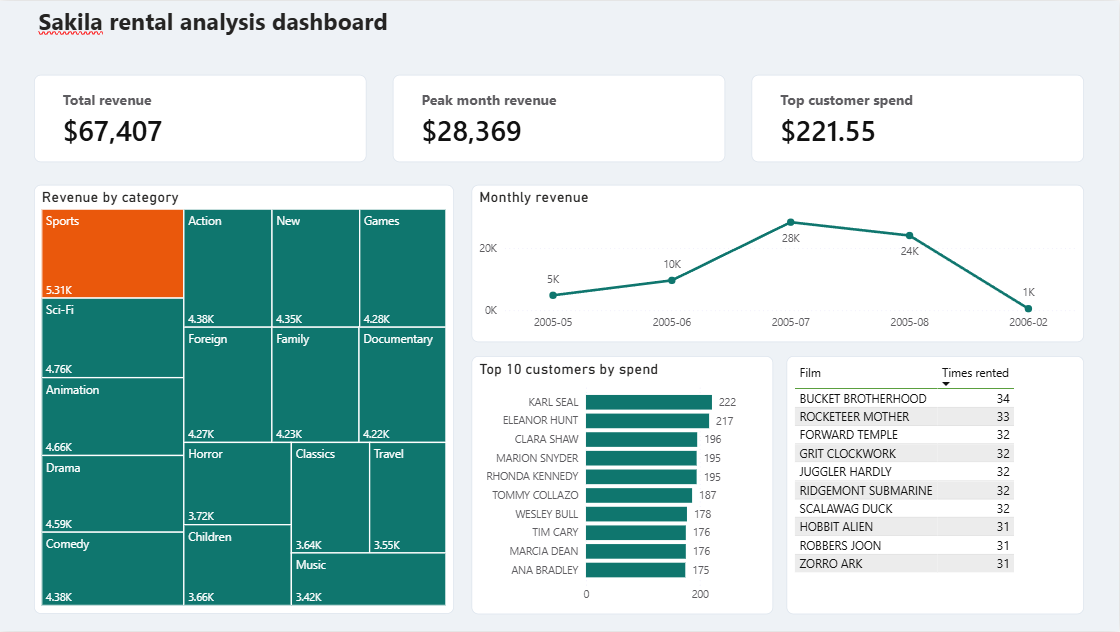

Layout of this report page (visuals, bound fields, positions):
{"tool":"powerbi","page":{"name":"Page 1","canvas":[1280,720],"ordinal":0},"visuals":[{"type":"cardVisual","fields":{"Data":["top_customers.Total Revenue"]},"box":[40,85,380,100],"z":0},{"type":"cardVisual","fields":{"Data":["top_customers.Peak Month Revenue"]},"box":[450,85,380,100],"z":1000},{"type":"cardVisual","fields":{"Data":["top_customers.Top Customer Spend"]},"box":[860,85,380,100],"z":2000},{"type":"treemap","title":"Revenue by category","fields":{"Group":["category_revenue.category"],"Values":["Sum(category_revenue.revenue)"]},"box":[40,210,480,490],"z":3000},{"type":"lineChart","title":"Monthly revenue","fields":{"Category":["monthly_revenue.month"],"Y":["Sum(monthly_revenue.revenue)"]},"box":[540,210,700,180],"z":4000},{"type":"clusteredBarChart","title":"Top 10 customers by spend","fields":{"Category":["top_customers.Customer"],"Y":["Sum(top_customers.total_spent)"]},"box":[540,406,345,295],"z":5000},{"type":"tableEx","title":"Top 10 most rented films","fields":{"Values":["top_films.title","Sum(top_films.times_rented)"]},"box":[900,405,340,295],"z":6000},{"type":"textbox","box":[40,0,1200,70],"z":7000}]}

Visuals, with their boxes in screenshot pixels (x1, y1, x2, y2), scaled from the page's 1280x720 canvas onto the 1120x632 screenshot:
cardVisual - top_customers.Total Revenue: select_region(35, 75, 368, 162)
cardVisual - top_customers.Peak Month Revenue: select_region(394, 75, 726, 162)
cardVisual - top_customers.Top Customer Spend: select_region(752, 75, 1085, 162)
"Revenue by category" treemap: select_region(35, 184, 455, 614)
"Monthly revenue" lineChart: select_region(472, 184, 1085, 342)
"Top 10 customers by spend" clusteredBarChart: select_region(472, 356, 774, 615)
"Top 10 most rented films" tableEx: select_region(788, 356, 1085, 614)
textbox: select_region(35, 0, 1085, 61)
